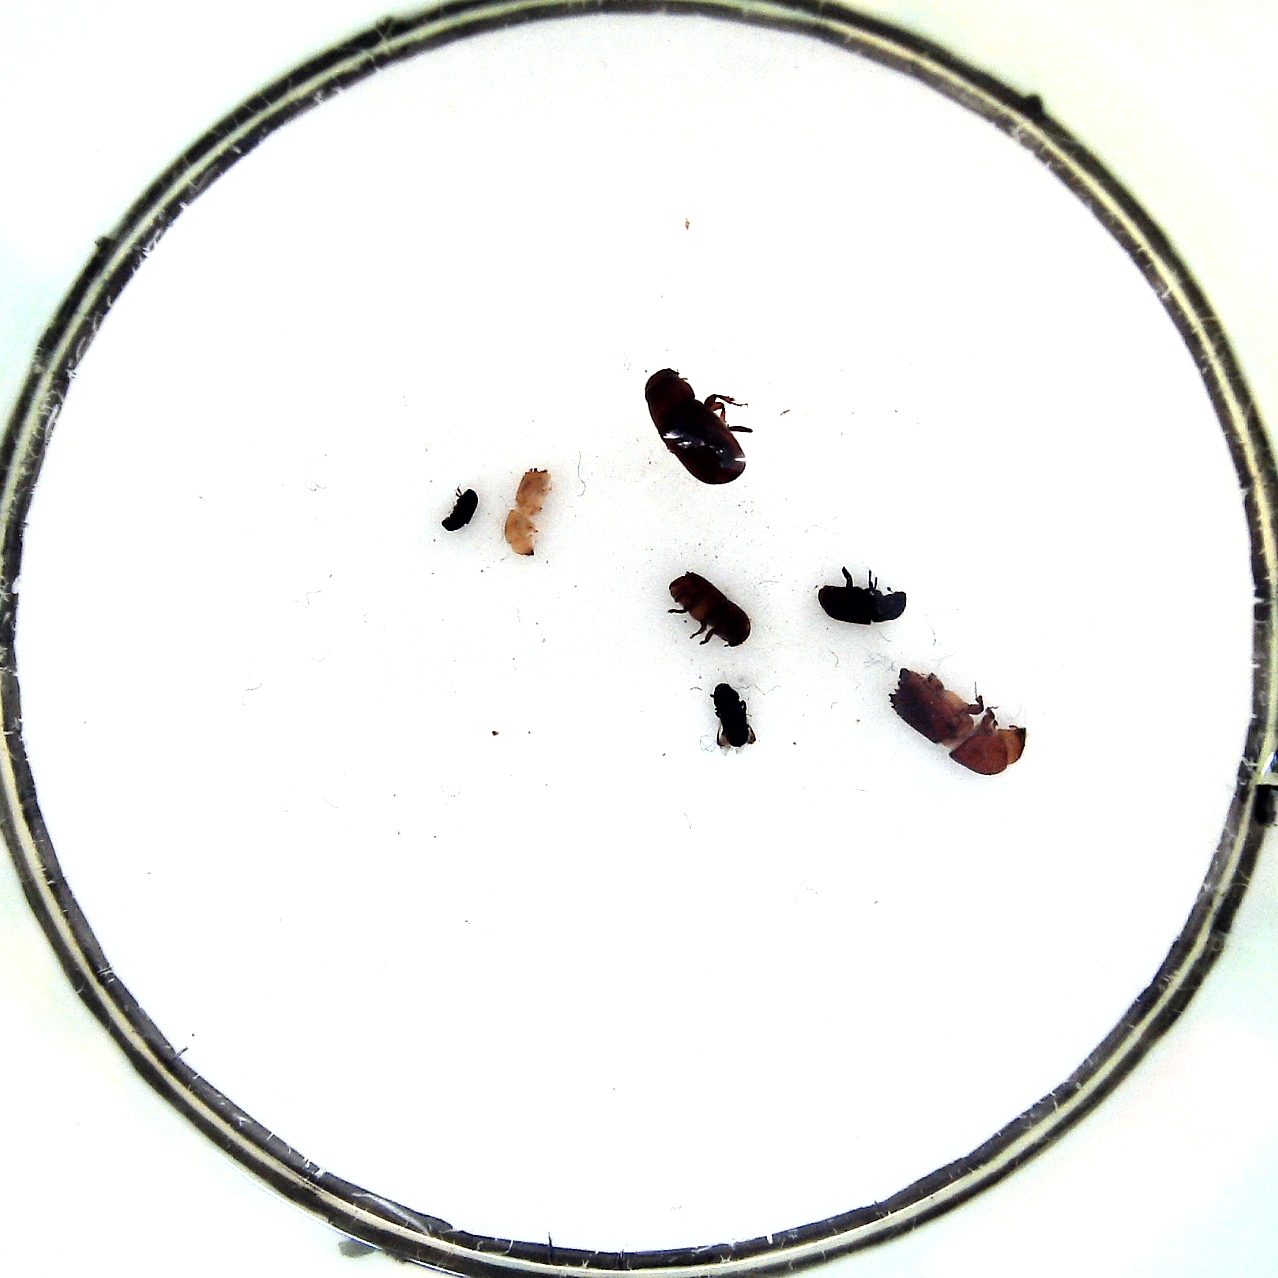Boerner: (885, 659, 1033, 779)
Leconte: (639, 363, 756, 492)
Linnaeus: (662, 569, 760, 653)
acuminatus: (500, 463, 557, 564)
armandi: (815, 563, 913, 628)
coleoptera: (707, 679, 761, 754), (438, 482, 482, 538)
